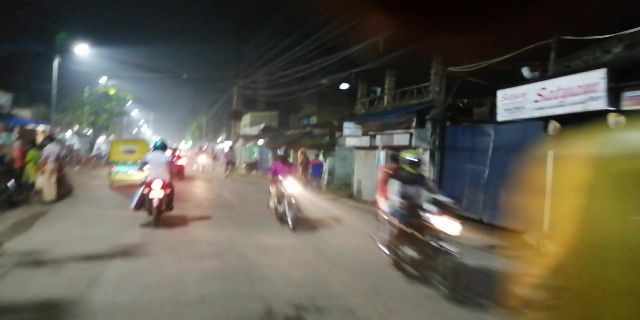Autorickshaw: (107, 137, 136, 187)
Motorbike: (366, 146, 472, 294), (264, 145, 310, 239), (141, 137, 178, 235)
